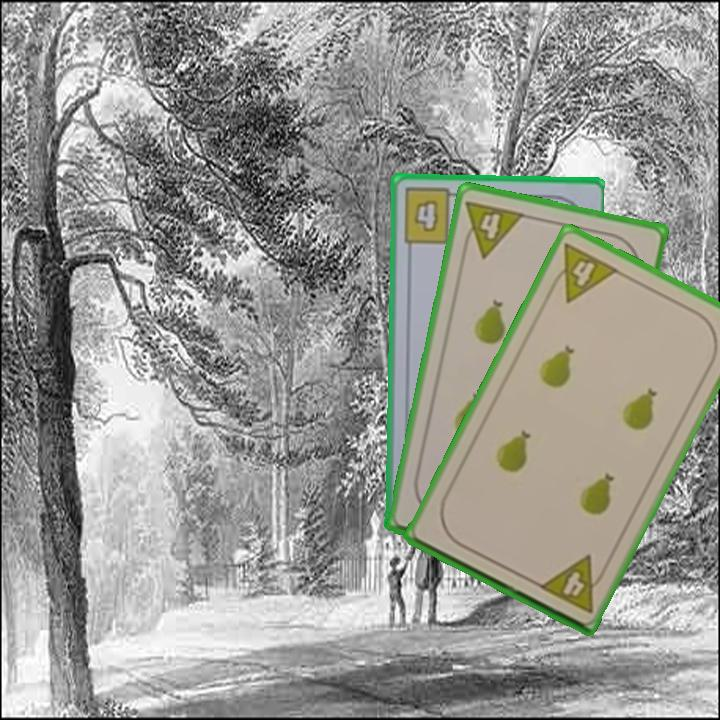4b: (400, 185, 463, 246)
4p: (544, 239, 622, 306), (535, 551, 611, 616), (458, 196, 527, 261)
